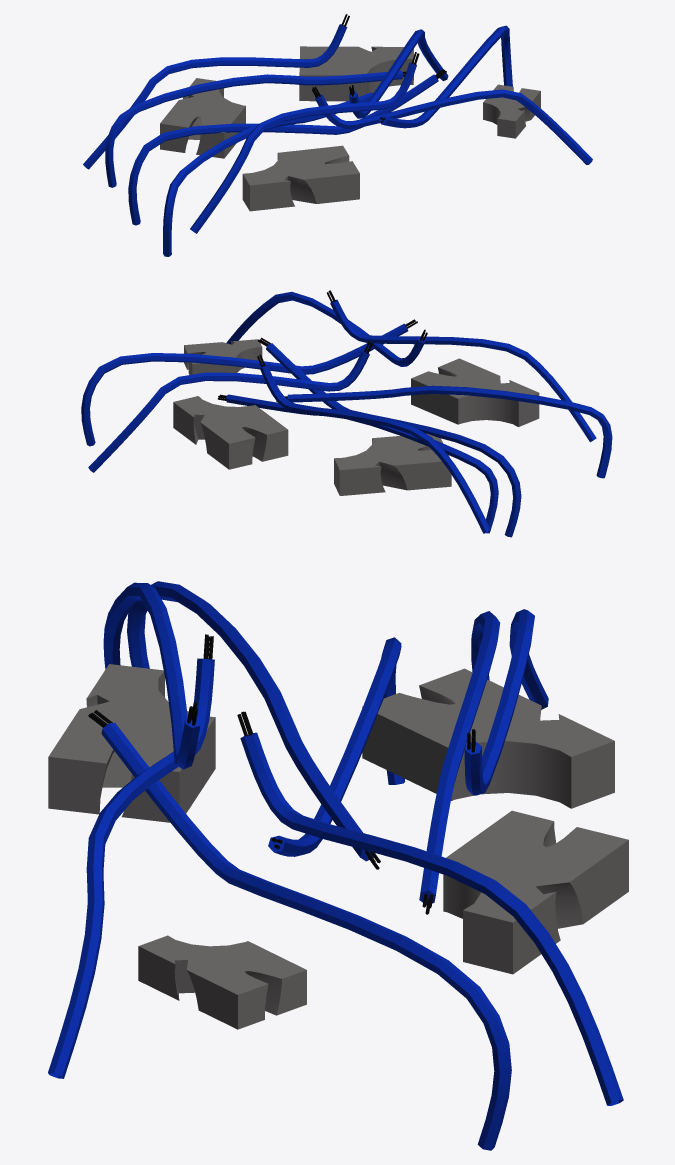
The model's file is Hazard floor.fbx.
The picture shows the model from 3 angles, top to bottom: view 1: azimuth 30°, elevation 25°; view 2: azimuth 150°, elevation 25°; view 3: azimuth 270°, elevation 25°; orthographic projection. The views are drawn at different scales.
Visible parts, largest first — view 1: metal001, metal004, metal003, OuterWire007, OuterWire001, OuterWire008, OuterWire006, OuterWire003, OuterWire005, OuterWire002, metal002, OuterWire004; view 2: metal004, metal003, metal001, OuterWire002, OuterWire005, OuterWire004, OuterWire003, OuterWire008, OuterWire001, OuterWire007, OuterWire006, metal002; view 3: metal003, metal004, metal001, OuterWire005, metal002, OuterWire004, OuterWire006, OuterWire002, OuterWire008, OuterWire007, OuterWire003, OuterWire001.
Part boxes in pixels (box(x1,y1,x2,y2)): metal001: box(242, 145, 359, 211); metal004: box(299, 46, 413, 101); metal003: box(160, 78, 245, 158); OuterWire007: box(105, 70, 403, 187); OuterWire001: box(128, 74, 438, 225); OuterWire008: box(190, 62, 416, 233); OuterWire006: box(315, 89, 592, 164); OuterWire003: box(83, 24, 347, 169); OuterWire005: box(379, 25, 512, 128); OuterWire002: box(163, 92, 372, 256); metal002: box(483, 84, 540, 138); OuterWire004: box(349, 29, 448, 118); metal004: box(173, 396, 288, 469); metal003: box(334, 433, 451, 495); metal001: box(411, 358, 539, 426); OuterWire002: box(287, 385, 612, 478); OuterWire005: box(81, 323, 408, 446); OuterWire004: box(88, 350, 369, 472); OuterWire003: box(259, 364, 490, 533); OuterWire008: box(330, 299, 596, 442); OuterWire001: box(266, 343, 521, 537); OuterWire007: box(226, 394, 498, 533); OuterWire006: box(226, 291, 425, 366); metal002: box(184, 339, 262, 374); metal003: box(362, 668, 614, 808); metal004: box(443, 810, 628, 974); metal001: box(48, 664, 215, 822); OuterWire005: box(101, 722, 511, 1150); metal002: box(138, 935, 306, 1029); OuterWire004: box(240, 732, 623, 1105); OuterWire006: box(48, 658, 214, 1078); OuterWire002: box(127, 581, 373, 861); OuterWire008: box(103, 582, 200, 769); OuterWire007: box(419, 611, 499, 904); OuterWire003: box(464, 609, 548, 795); OuterWire001: box(268, 637, 405, 856).
Bounding box in the file's own units: 80 × 23.76 × 43.52.
Materials: 1 (1 with a texture image).
